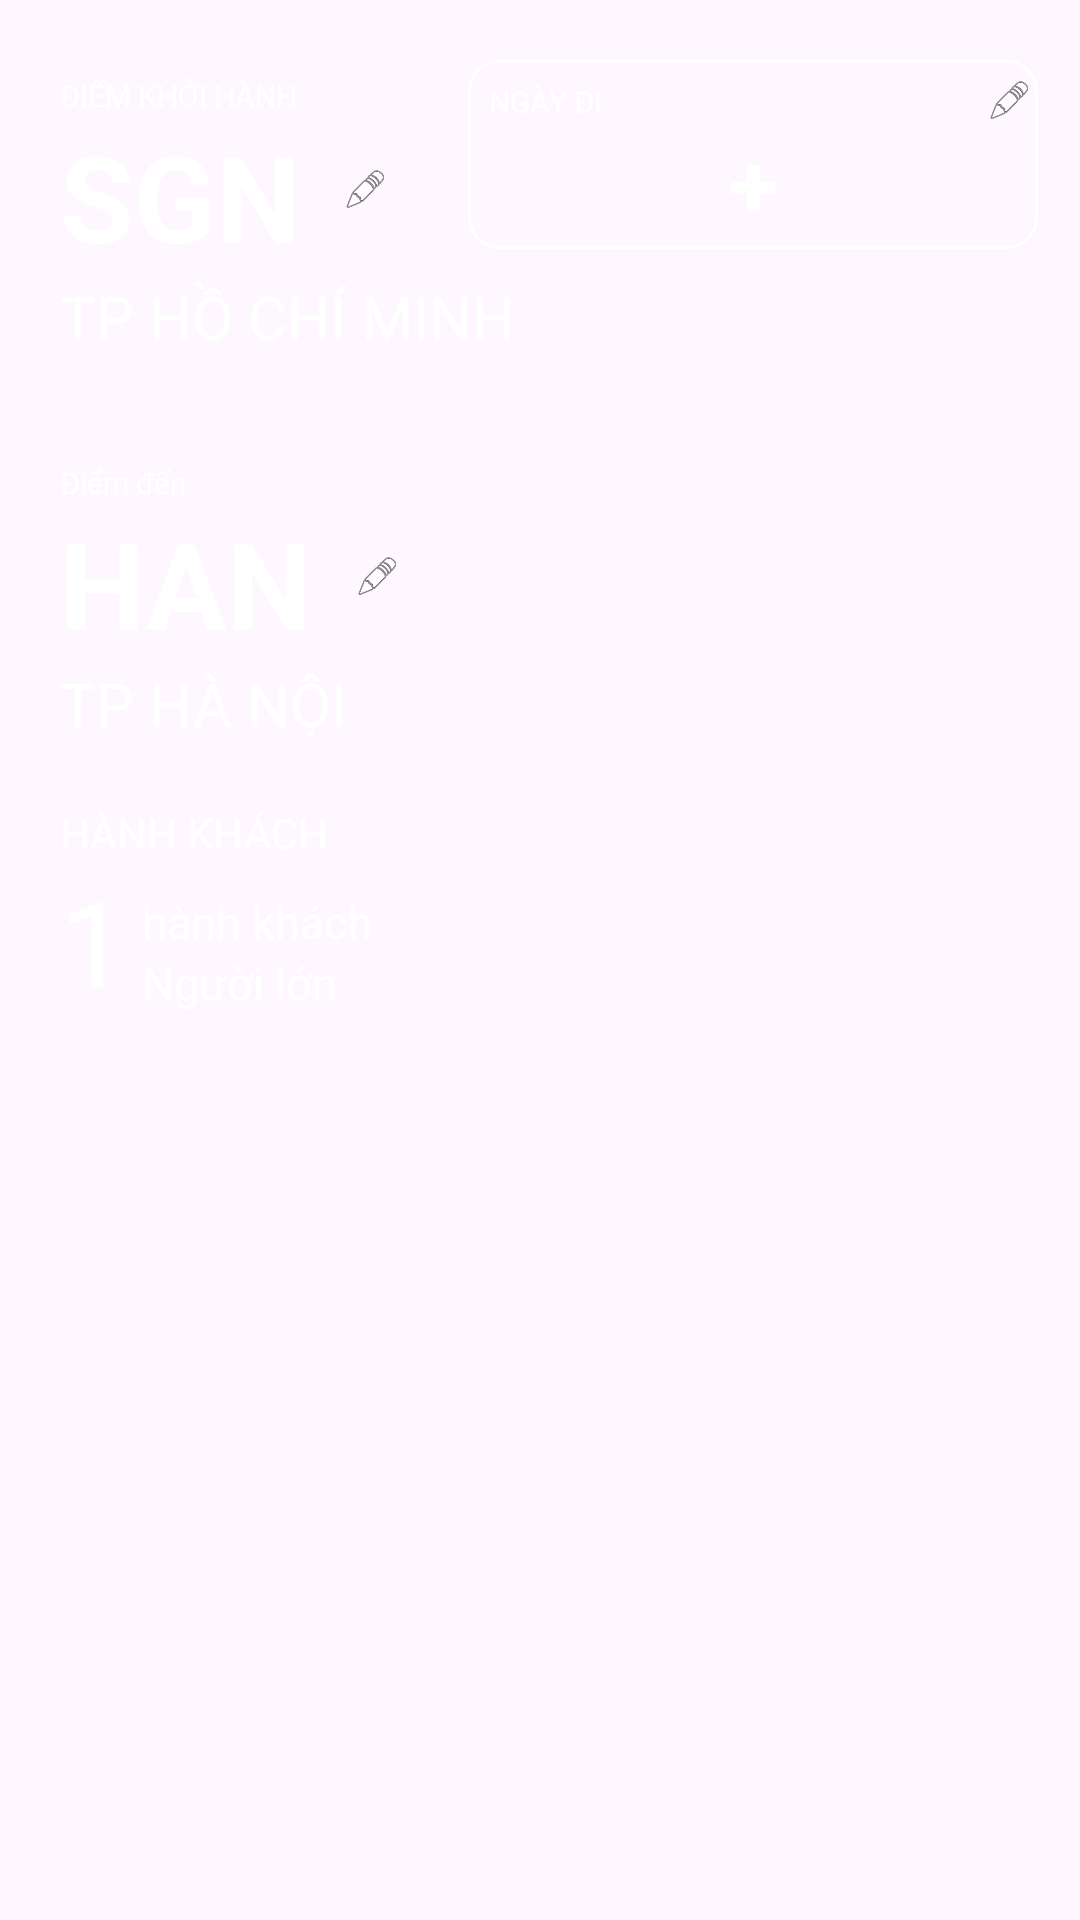

Icons on this 1080px×1920px Android screen, each with its box as {"x1": x1, "y1": y1, "x2": x2, "y2": y2}:
edit: {"x1": 990, "y1": 81, "x2": 1028, "y2": 119}, {"x1": 346, "y1": 170, "x2": 384, "y2": 208}, {"x1": 358, "y1": 557, "x2": 396, "y2": 595}
